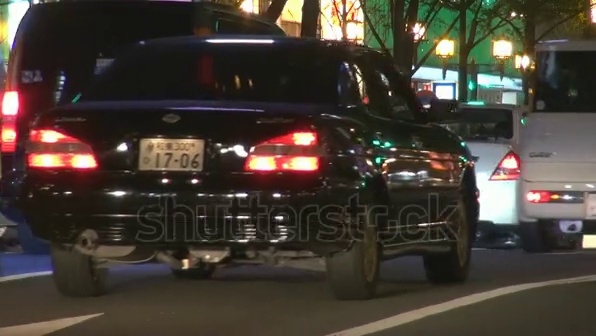licenseplate: (139, 132, 207, 176)
